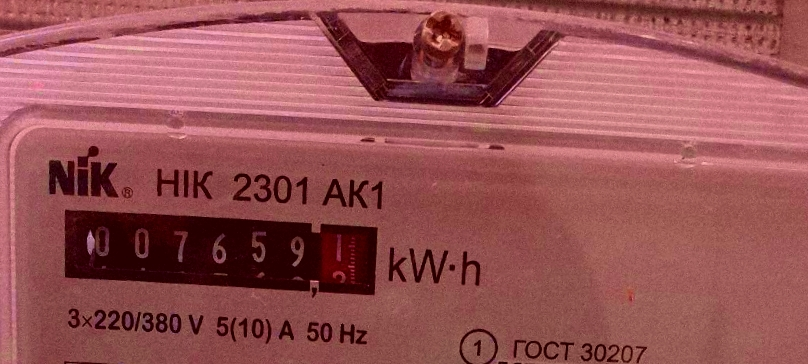0: (128, 223, 154, 262), (89, 220, 113, 261)
1: (328, 228, 347, 265)
5: (246, 226, 269, 265)
6: (206, 228, 231, 266)
7: (166, 225, 190, 265)
9: (284, 231, 308, 270)
screen: (49, 195, 389, 310)
